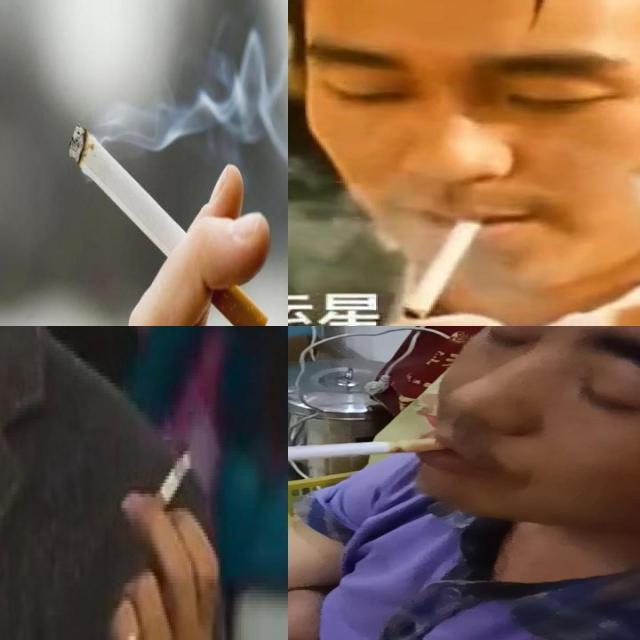smoking: (69, 125, 269, 325), (401, 216, 482, 320), (288, 436, 456, 466), (150, 444, 193, 504)
